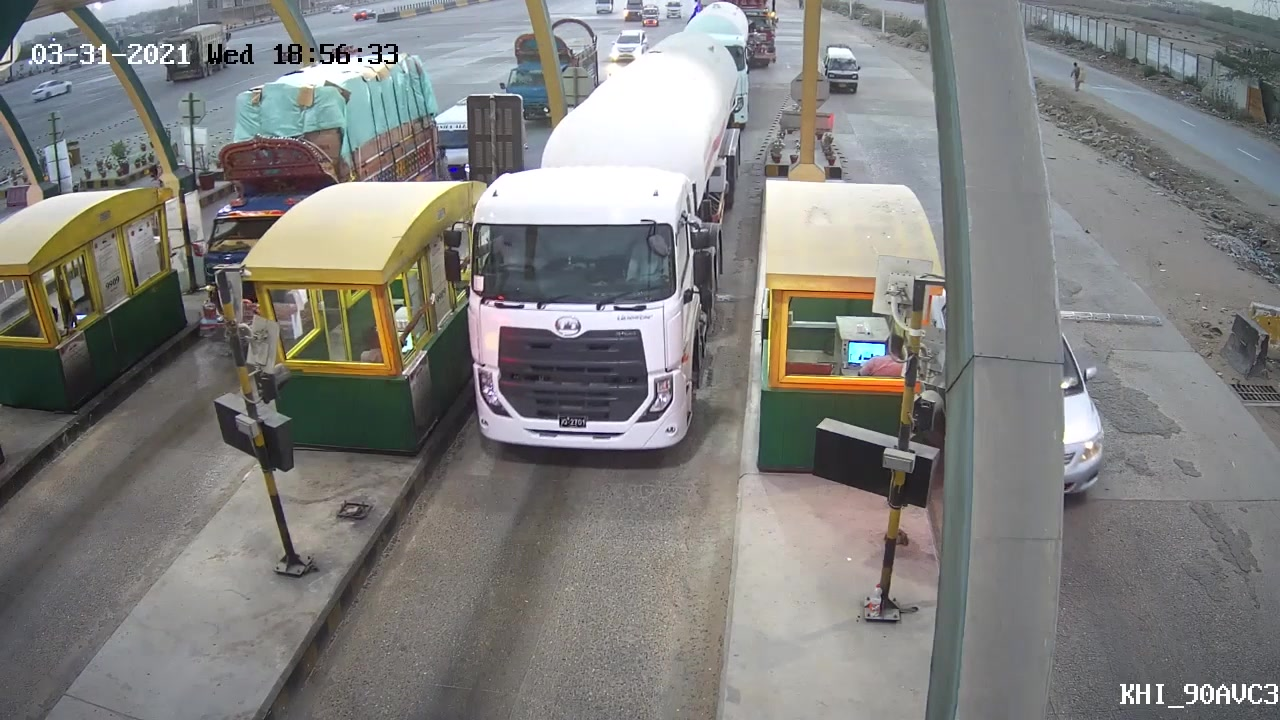F6: (448, 34, 751, 455)
